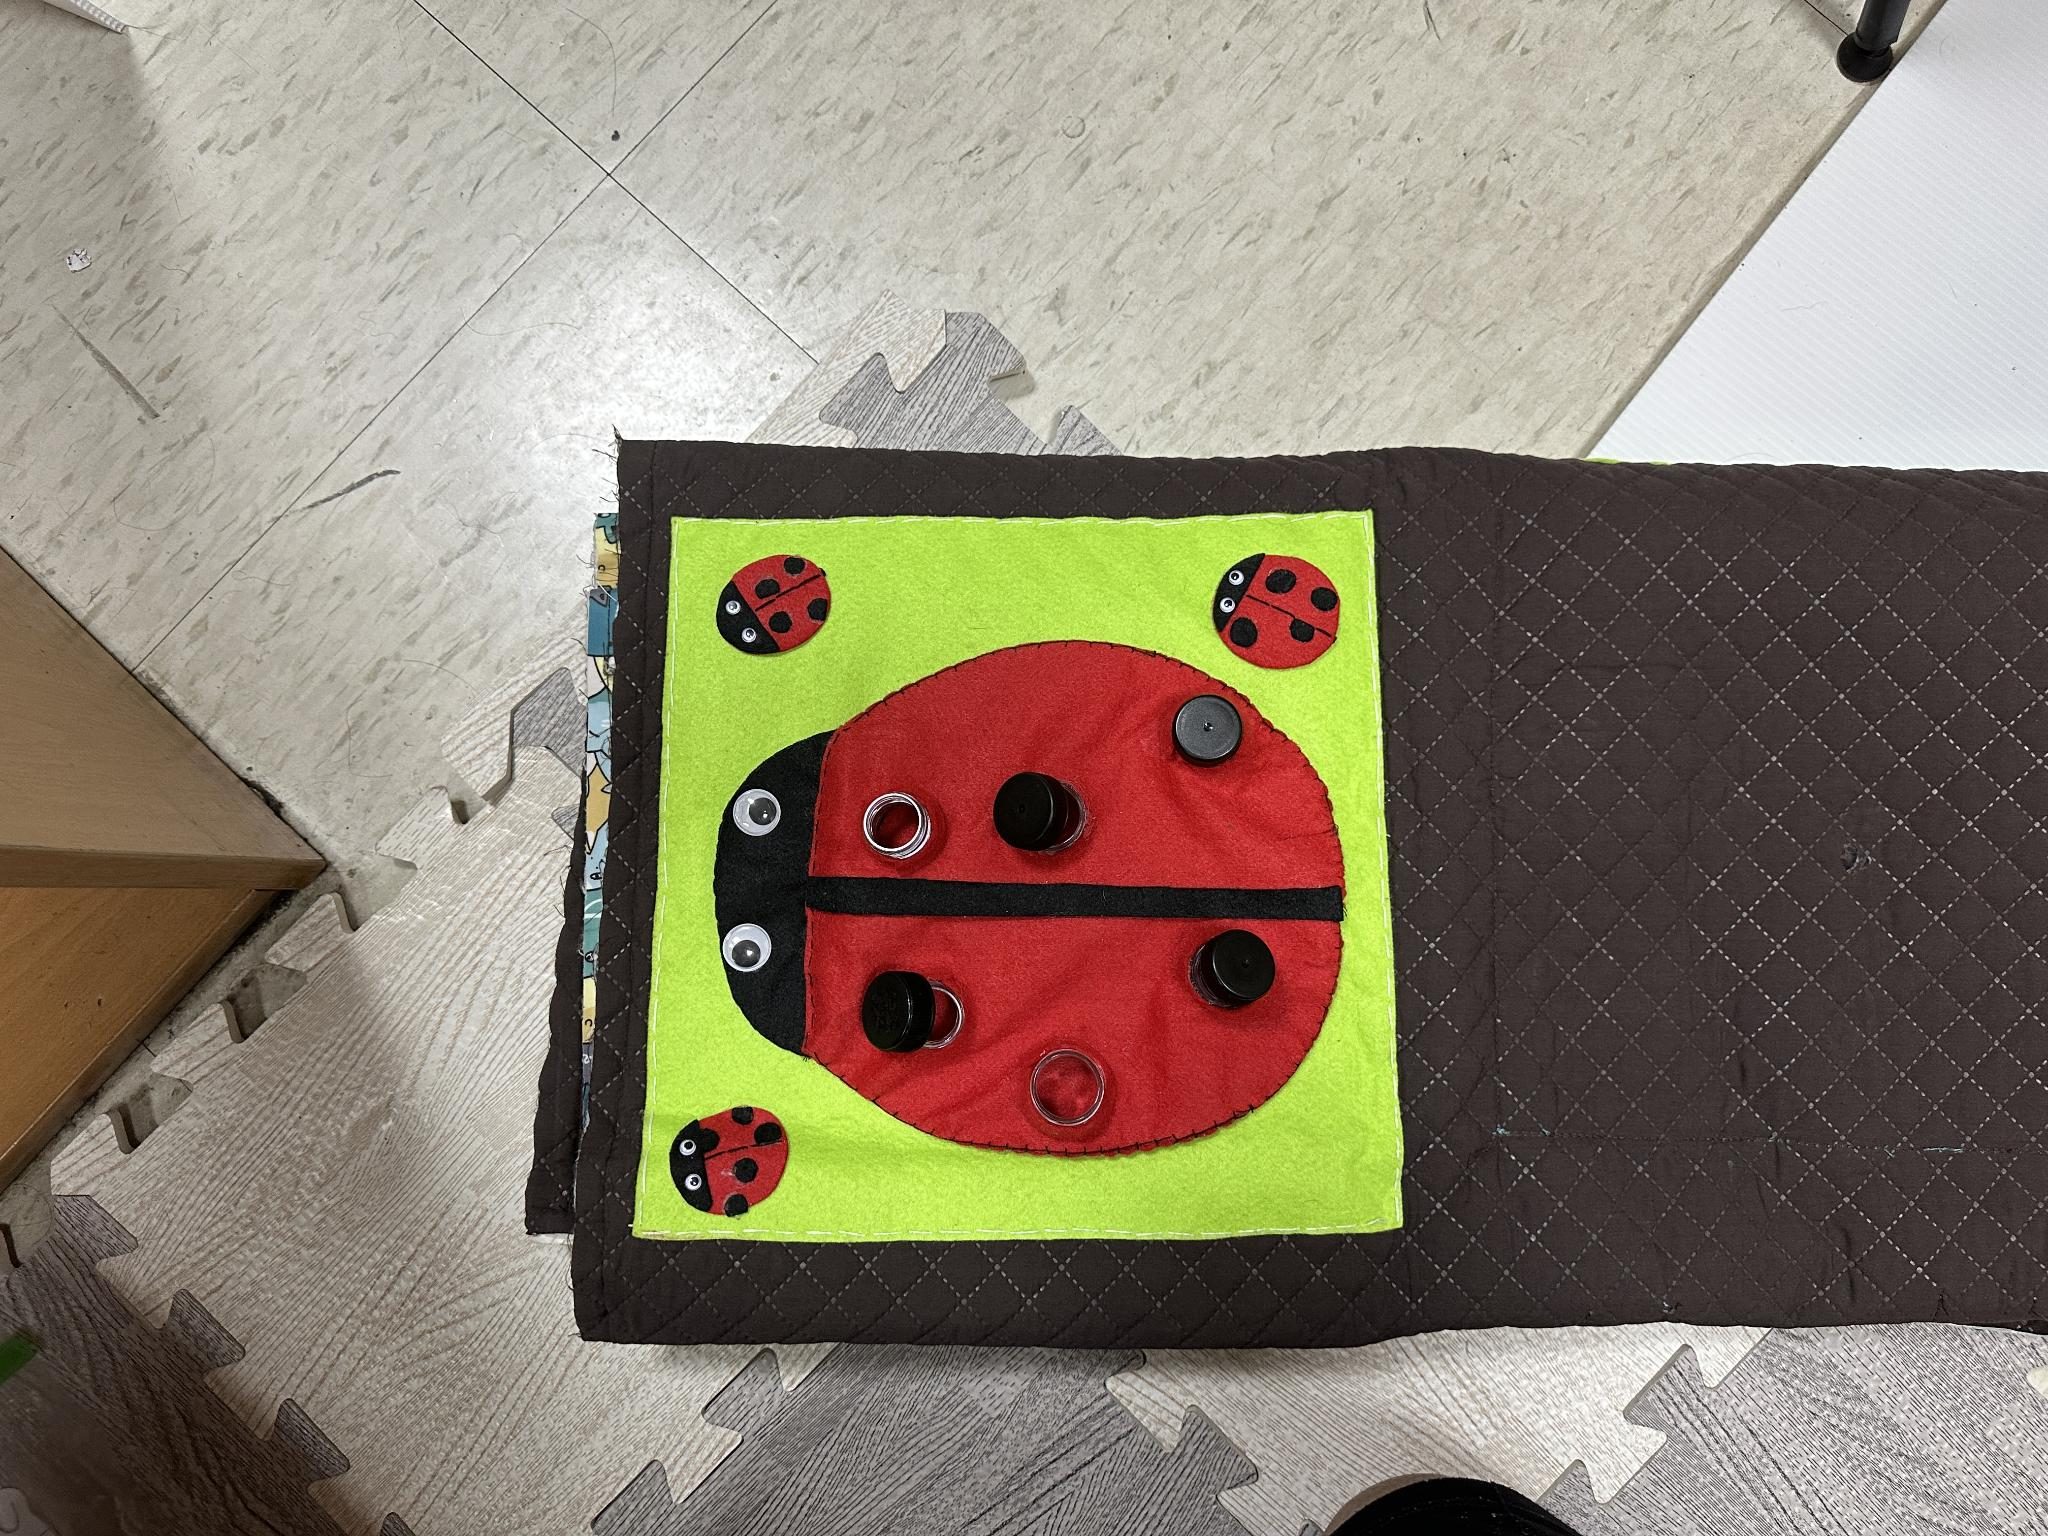cap_ng: (853, 941, 989, 1076), (987, 763, 1111, 871)
cap_ok: (1172, 918, 1292, 1018), (1159, 682, 1258, 779)
